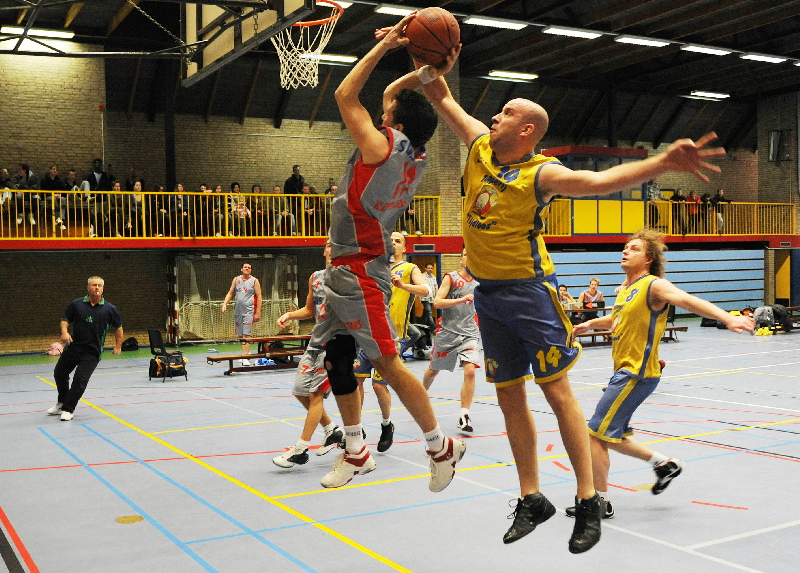basketball: (405, 7, 460, 66)
